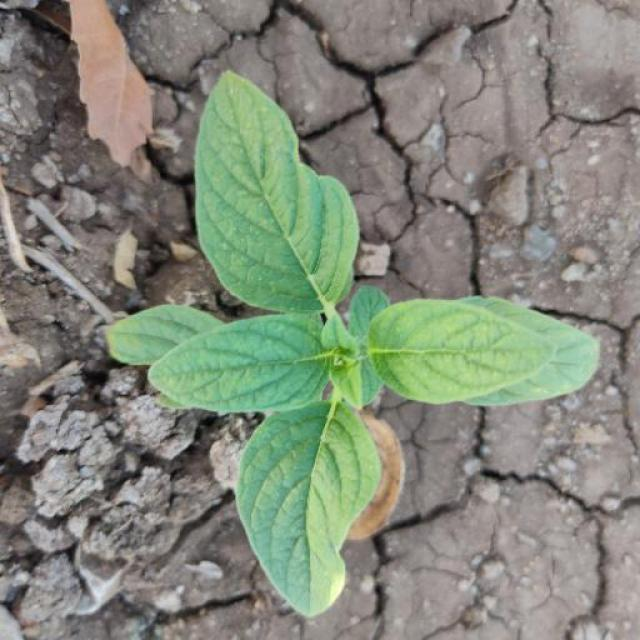crop: (90, 66, 581, 614)
